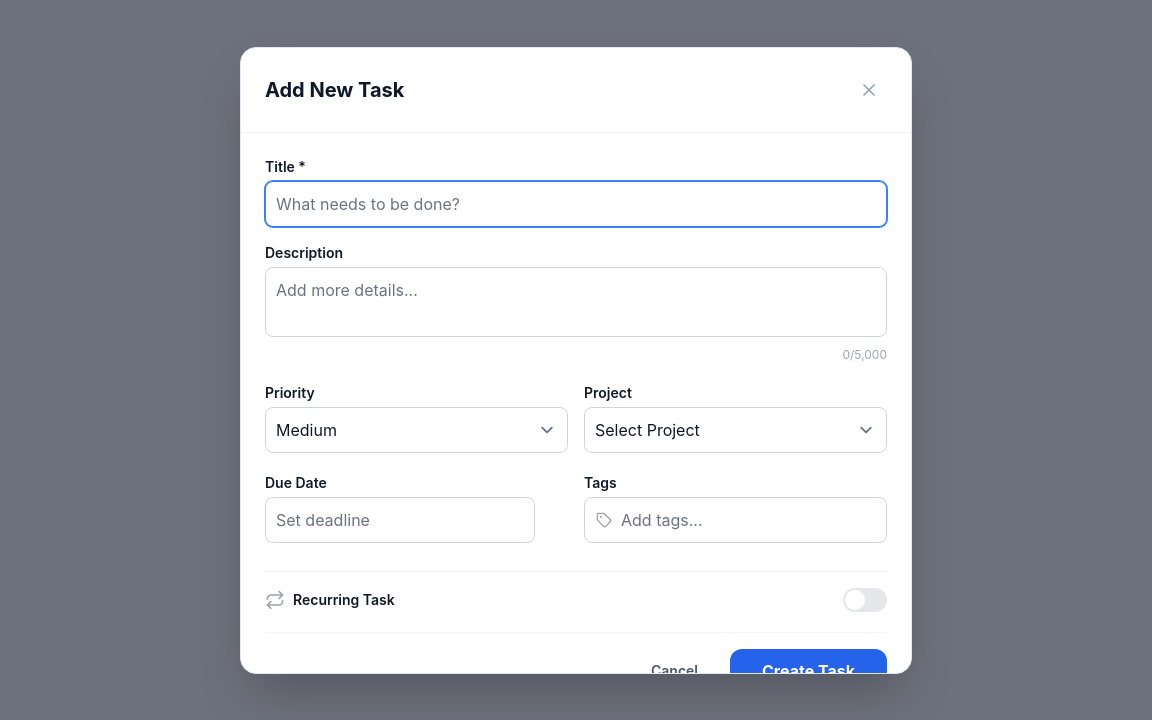
Test: AddTaskForm Integration › Form Validation › validates tag length
Type "ThisIsALongTagThatExceedsThirtyCharacters" into the field with placeholder "Add tags..." at (736, 520), box [584,496,887,542]
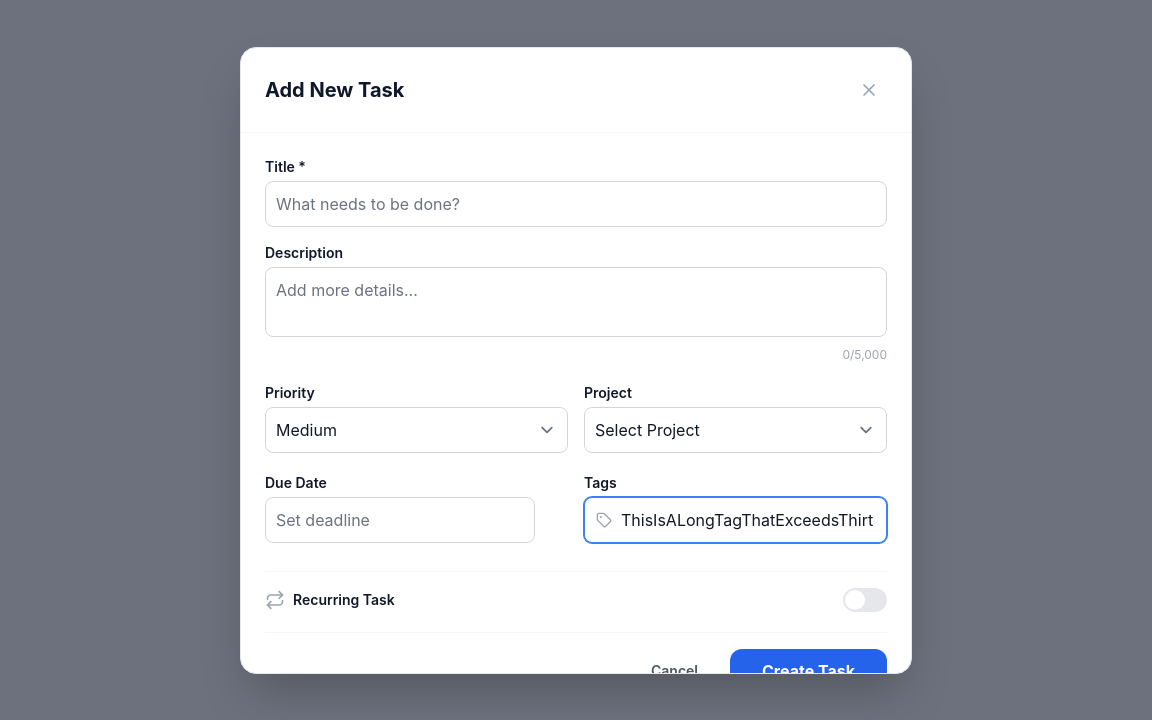
Press Enter
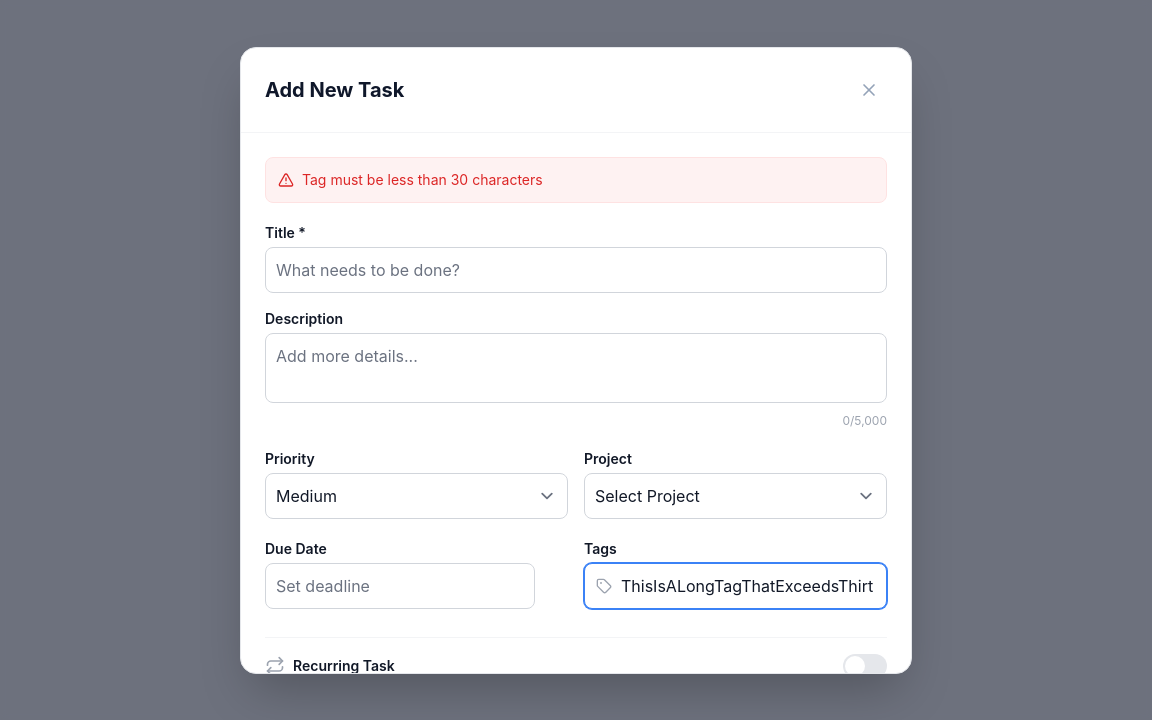
Expected: the text "Tag must be less than 30 characters" is shown, [302,170,543,190]
